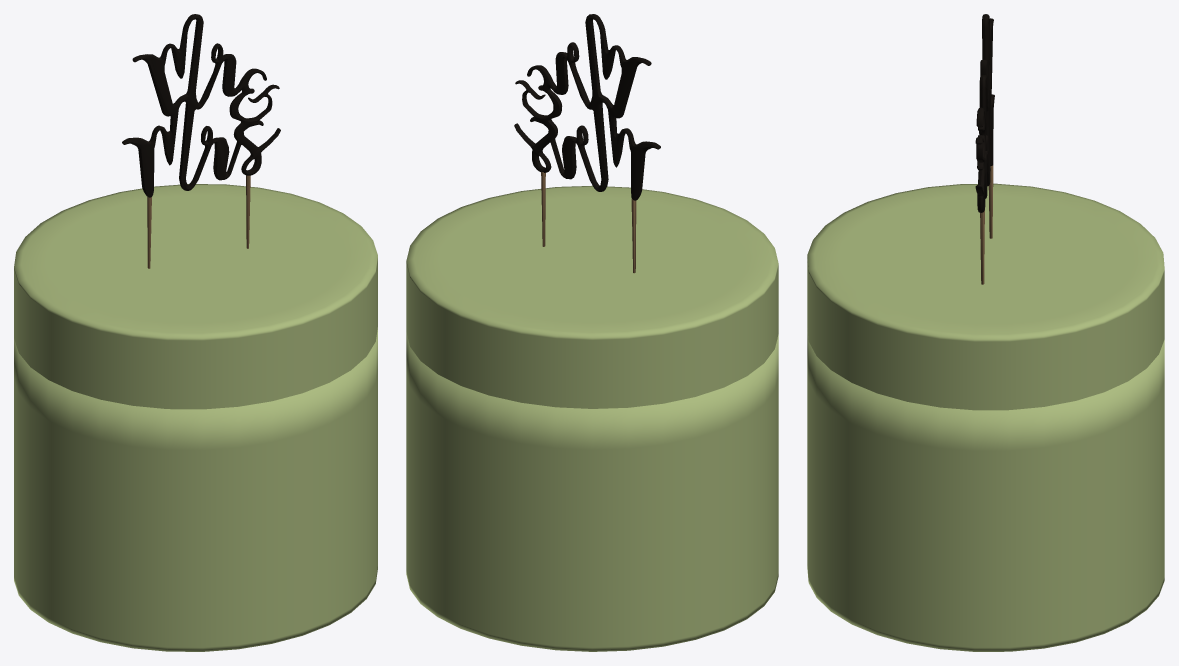
Rendered from 1-tier-pistage-none-mrms.glb.
The picture shows the model from 3 angles, left to right: view 1: azimuth 30°, elevation 25°; view 2: azimuth 150°, elevation 25°; view 3: azimuth 270°, elevation 25°; orthographic projection.
Visible parts, largest first — view 1: Cylinder.019, mrms.001; view 2: Cylinder.019, mrms.001; view 3: Cylinder.019, mrms.001.
Part boxes in pixels (left/top/right/bottom): Cylinder.019: left=14, top=184, right=377, bottom=651; mrms.001: left=122, top=14, right=280, bottom=268; Cylinder.019: left=406, top=185, right=778, bottom=651; mrms.001: left=514, top=14, right=660, bottom=273; Cylinder.019: left=807, top=183, right=1164, bottom=651; mrms.001: left=975, top=14, right=994, bottom=284.
Size of the model in its own units: 2.63 by 4.41 by 2.55.
